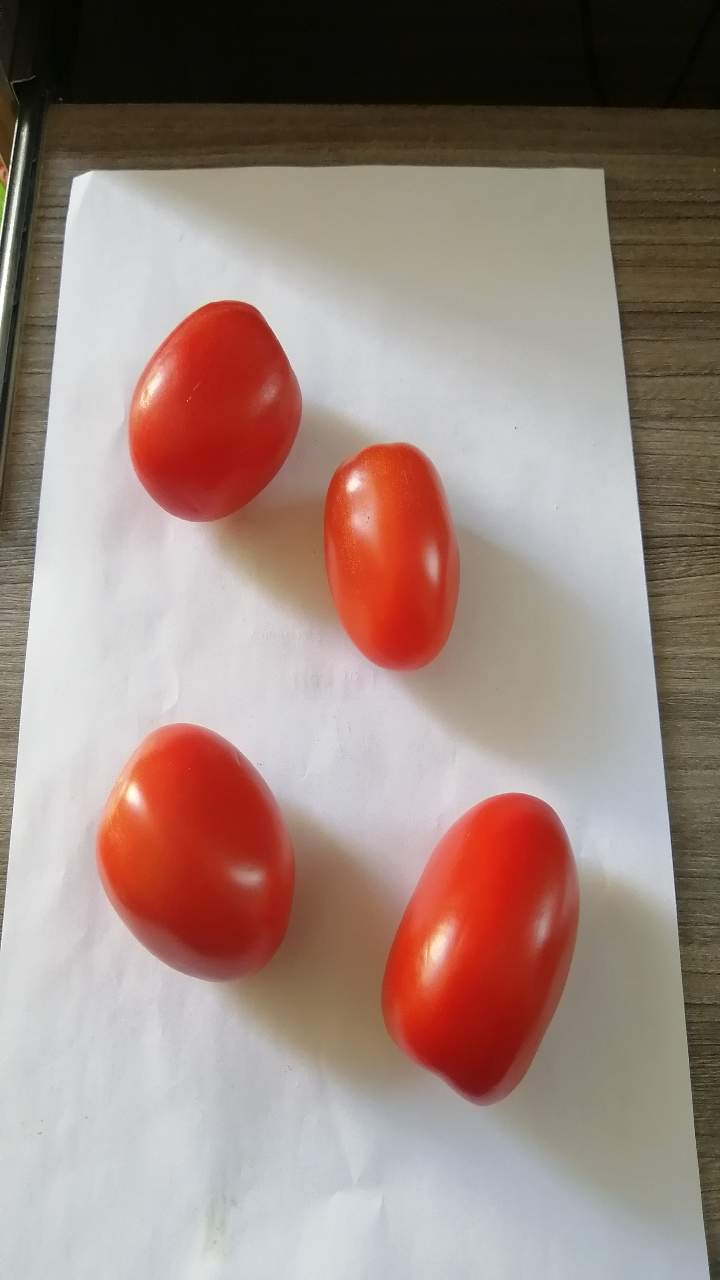tomateRojo: (363, 768, 592, 1132), (69, 699, 315, 1000), (109, 280, 314, 566), (314, 425, 478, 686)
